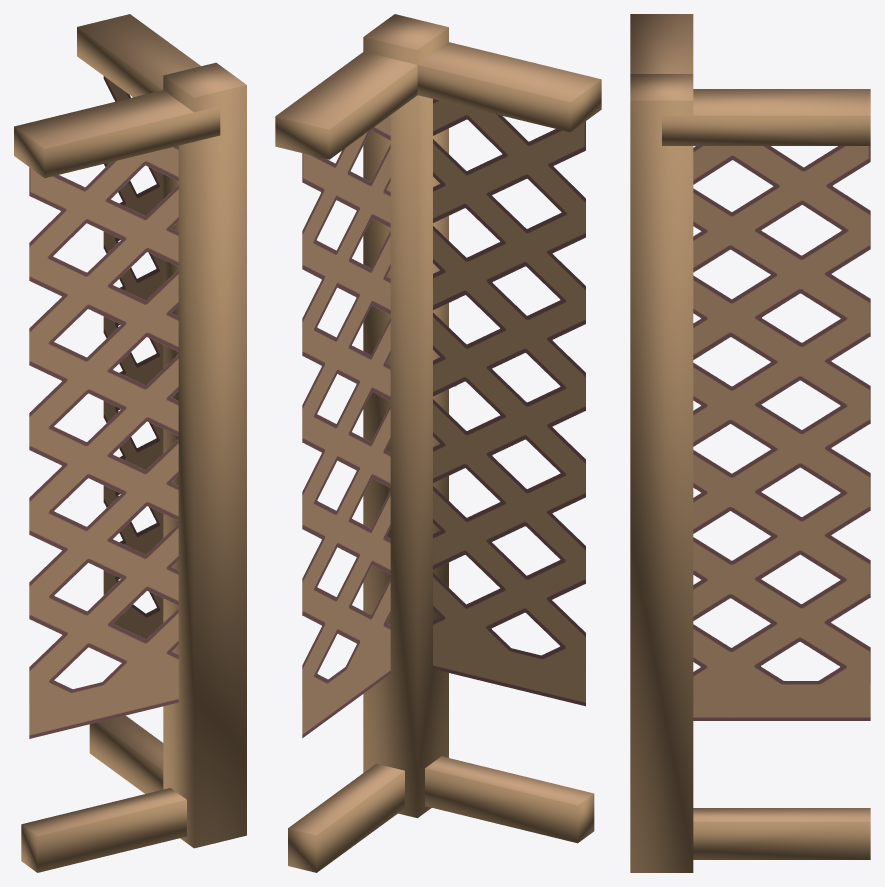
File: Fence_RF_20008_04_SM.fbx
3 renders of one model, left to right at view 1: azimuth 30°, elevation 25°; view 2: azimuth 150°, elevation 25°; view 3: azimuth 270°, elevation 25°, orthographic. The views are drawn at different scales.
Parts seen in each view (by area): view 1: Fence_RF_20008_04, Fence_RF_20008_04_P; view 2: Fence_RF_20008_04_P, Fence_RF_20008_04; view 3: Fence_RF_20008_04, Fence_RF_20008_04_P.
Boxes of the visible parts, bbox=[...] form: Fence_RF_20008_04: bbox=[14, 14, 246, 872]; Fence_RF_20008_04_P: bbox=[29, 76, 178, 738]; Fence_RF_20008_04_P: bbox=[302, 99, 585, 738]; Fence_RF_20008_04: bbox=[275, 14, 601, 872]; Fence_RF_20008_04: bbox=[630, 14, 870, 872]; Fence_RF_20008_04_P: bbox=[693, 146, 870, 720].
Size of the model in its own units: 57.54 by 204 by 57.58.
1 material, 1 textured.
